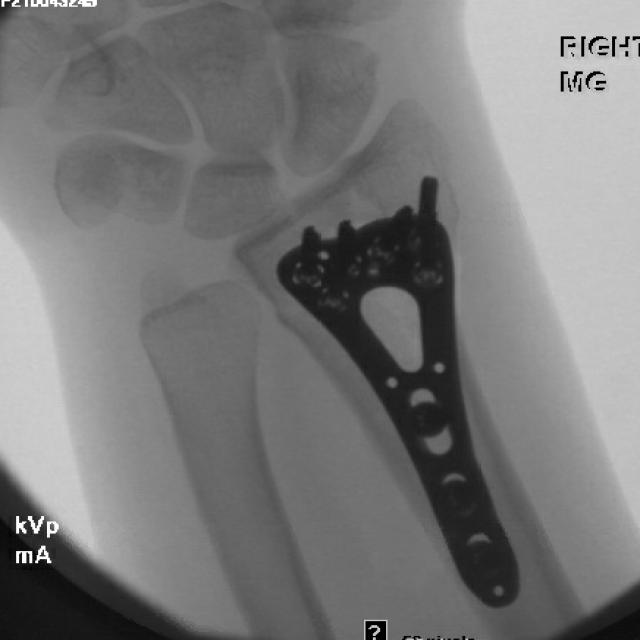x-ray: (260, 171, 564, 610)
